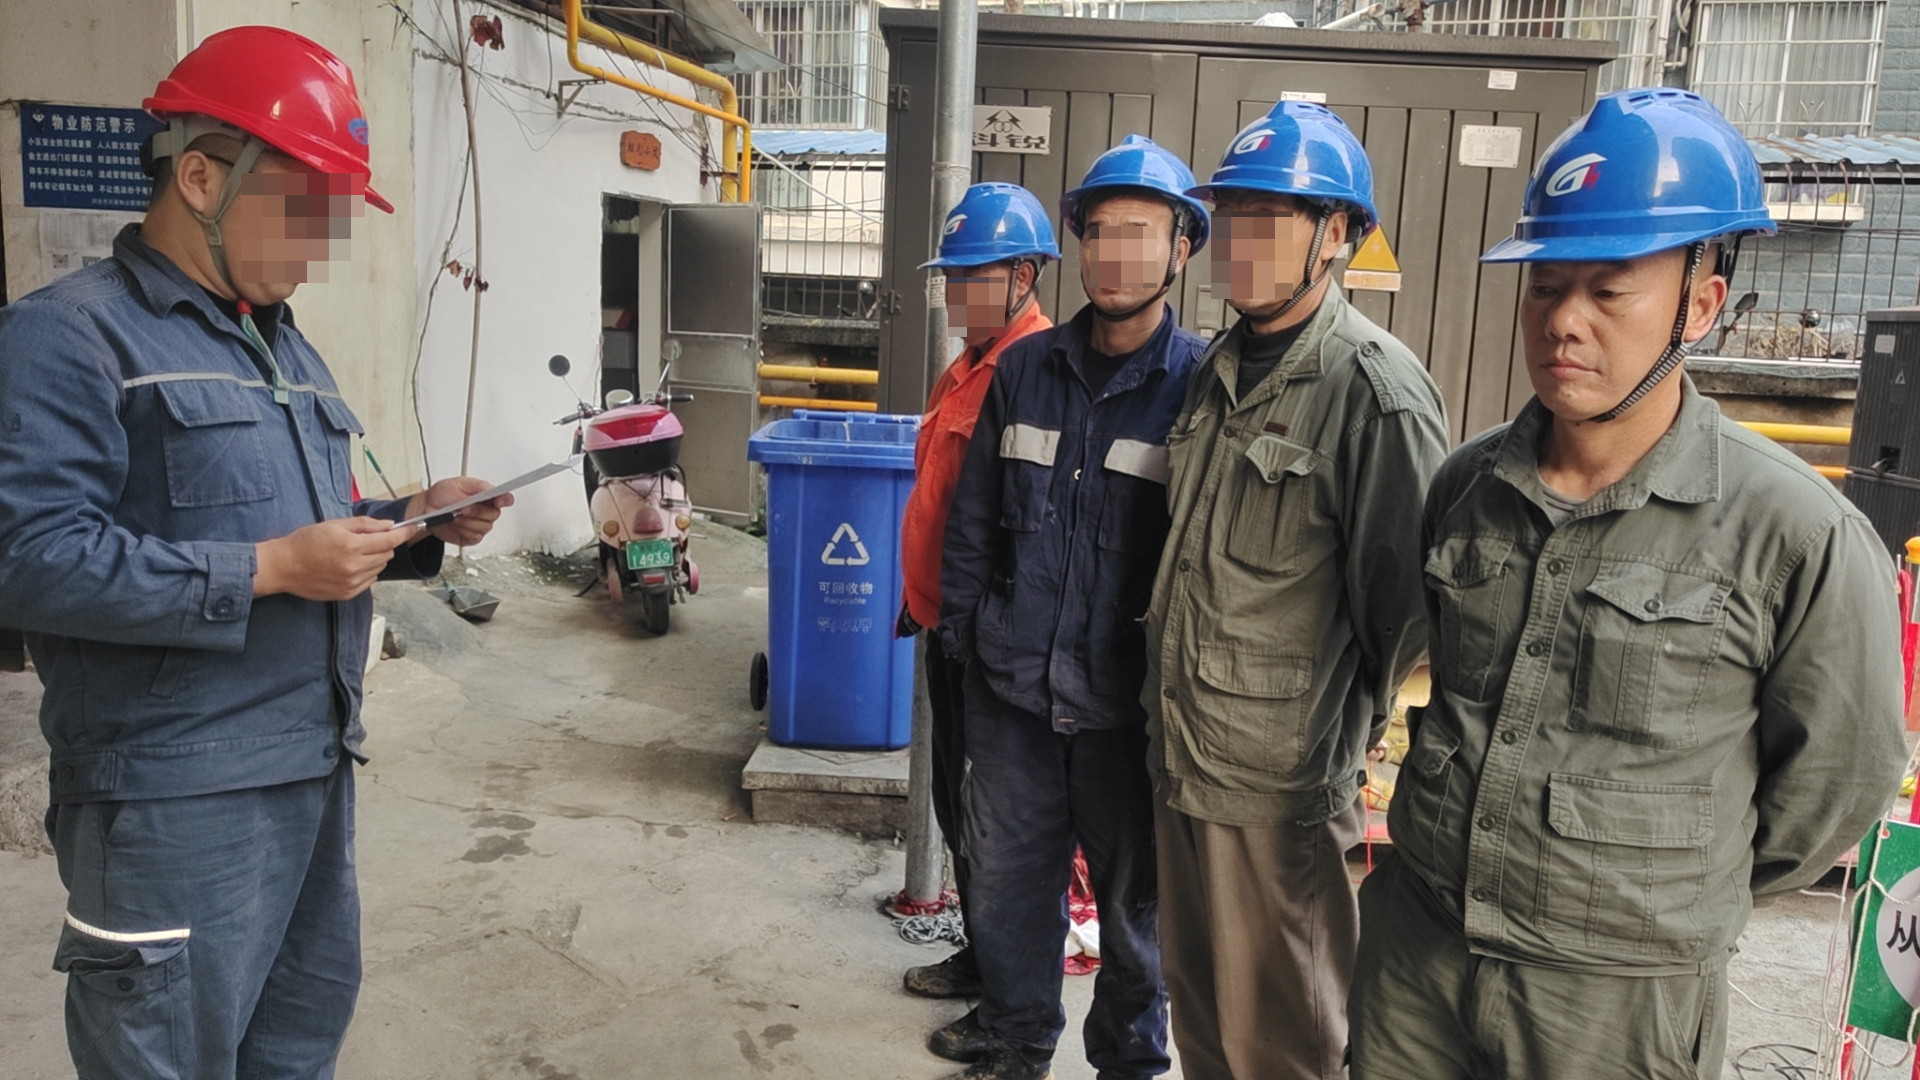downcloth: (1360, 911, 1734, 1080), (1141, 805, 1359, 1079)
downsuit: (44, 787, 368, 1080), (967, 738, 1164, 1063)
halt: (1476, 84, 1780, 439), (132, 27, 380, 300), (1205, 97, 1380, 329), (1063, 138, 1209, 328), (931, 181, 1062, 337)
hand: (288, 513, 426, 604), (422, 474, 515, 549)
inear: (1652, 231, 1744, 370), (158, 139, 265, 242), (1290, 206, 1349, 282), (1140, 226, 1198, 289), (996, 263, 1043, 314)
intosign: (1843, 816, 1920, 1044)
person: (1342, 77, 1916, 1077), (1, 20, 470, 1080), (1127, 88, 1449, 1078), (946, 150, 1228, 1077), (887, 171, 1074, 1001)
upcloth: (1382, 364, 1915, 946), (1181, 271, 1450, 840)
upsuit: (1, 220, 388, 797), (950, 302, 1196, 696)
yupsuit: (892, 296, 1033, 628)
